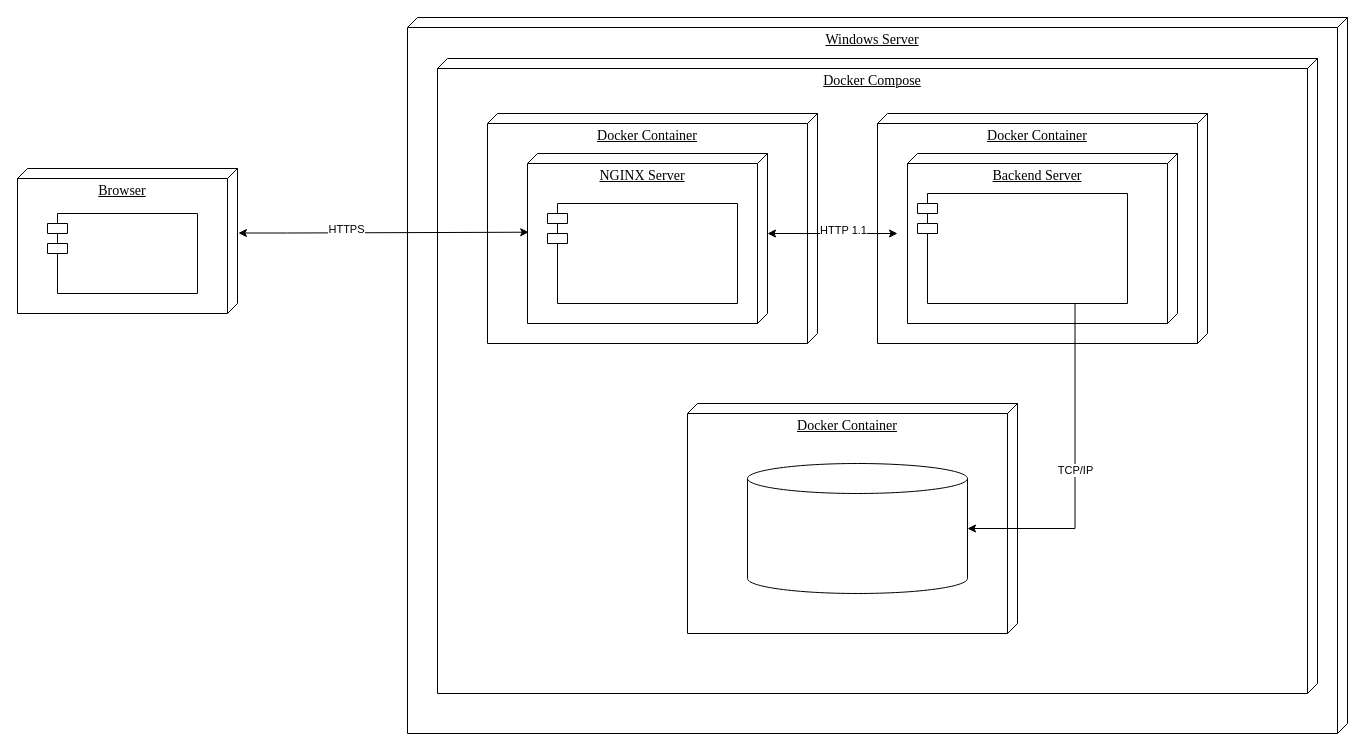
Some shapes in this 1365 by 751 pixel diagram are drawn without their labels. Each missing label, with the centre of its shape:
"Node.js 20 LTS Express" belongs at [1022,248].
"PostgreSQL 16" belongs at [857,528].
"React JavaScript" belongs at [122,253].
"Reverse Proxy Static React Files" belongs at [642,253].
